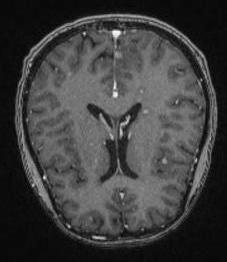Normal_Brain: (13, 12, 227, 262)
